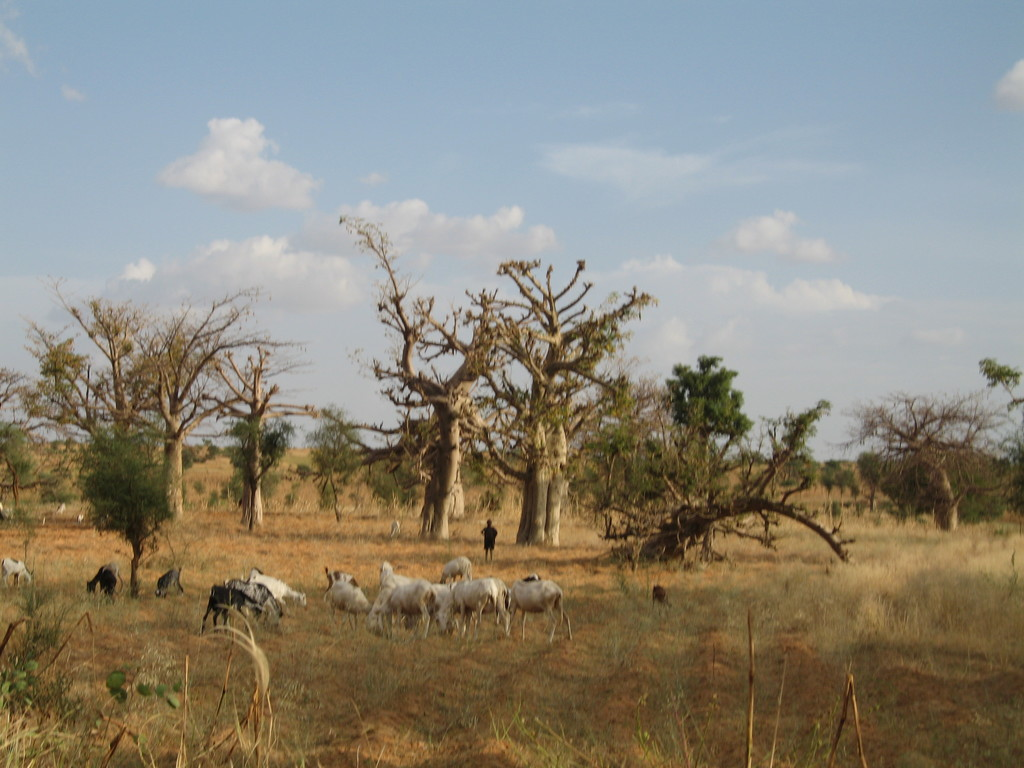Tree: (565, 346, 1023, 567), (334, 209, 539, 544), (474, 256, 662, 549), (117, 281, 311, 518), (19, 292, 212, 447), (191, 346, 326, 531), (87, 431, 181, 600)
